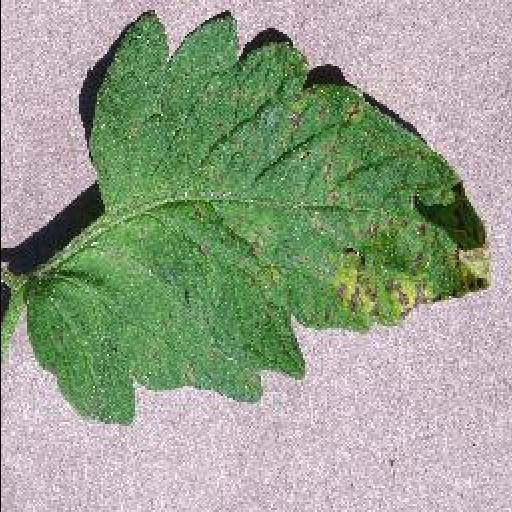disease_tomato: (20, 12, 492, 438)
